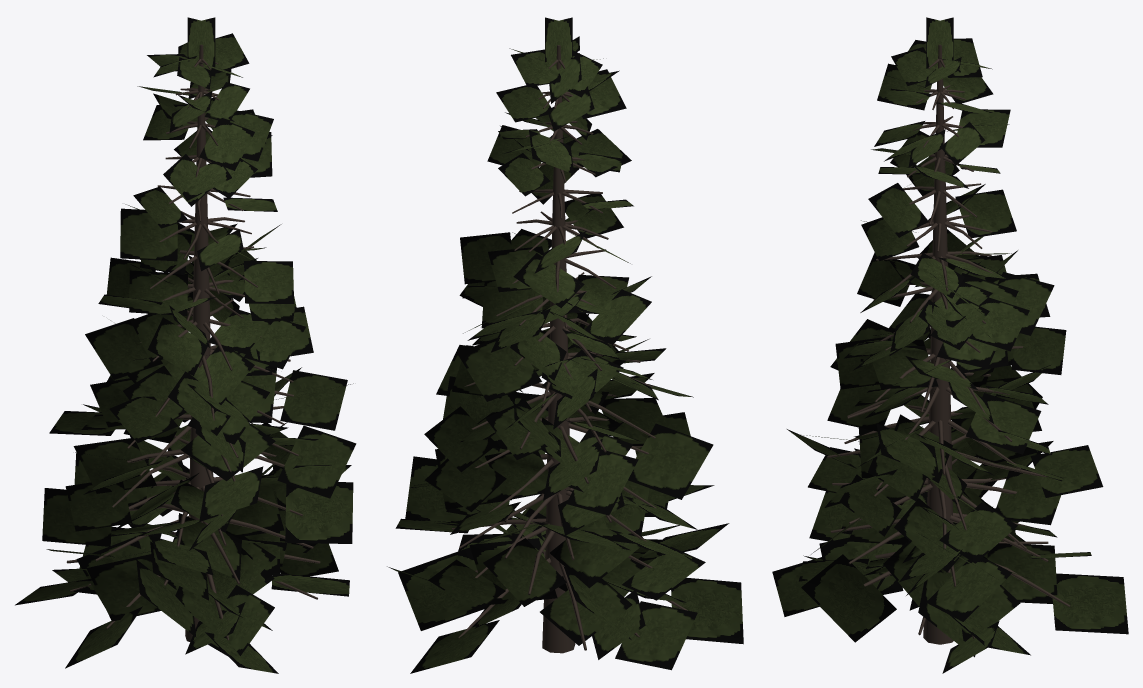
File: pine_1_burnt2.glb
The picture shows the model from 3 angles, left to right: view 1: azimuth 30°, elevation 25°; view 2: azimuth 150°, elevation 25°; view 3: azimuth 270°, elevation 25°; orthographic projection.
Parts seen in each view (by area): view 1: pine_1_burnt2; view 2: pine_1_burnt2; view 3: pine_1_burnt2.
Part boxes in pixels (x1,y1,x2,y2): pine_1_burnt2: (15,17,356,673); pine_1_burnt2: (387,17,743,673); pine_1_burnt2: (772,17,1128,673).
Size of the model in its own units: 6.76 by 12.9 by 6.75.
2 materials, 1 textured.
